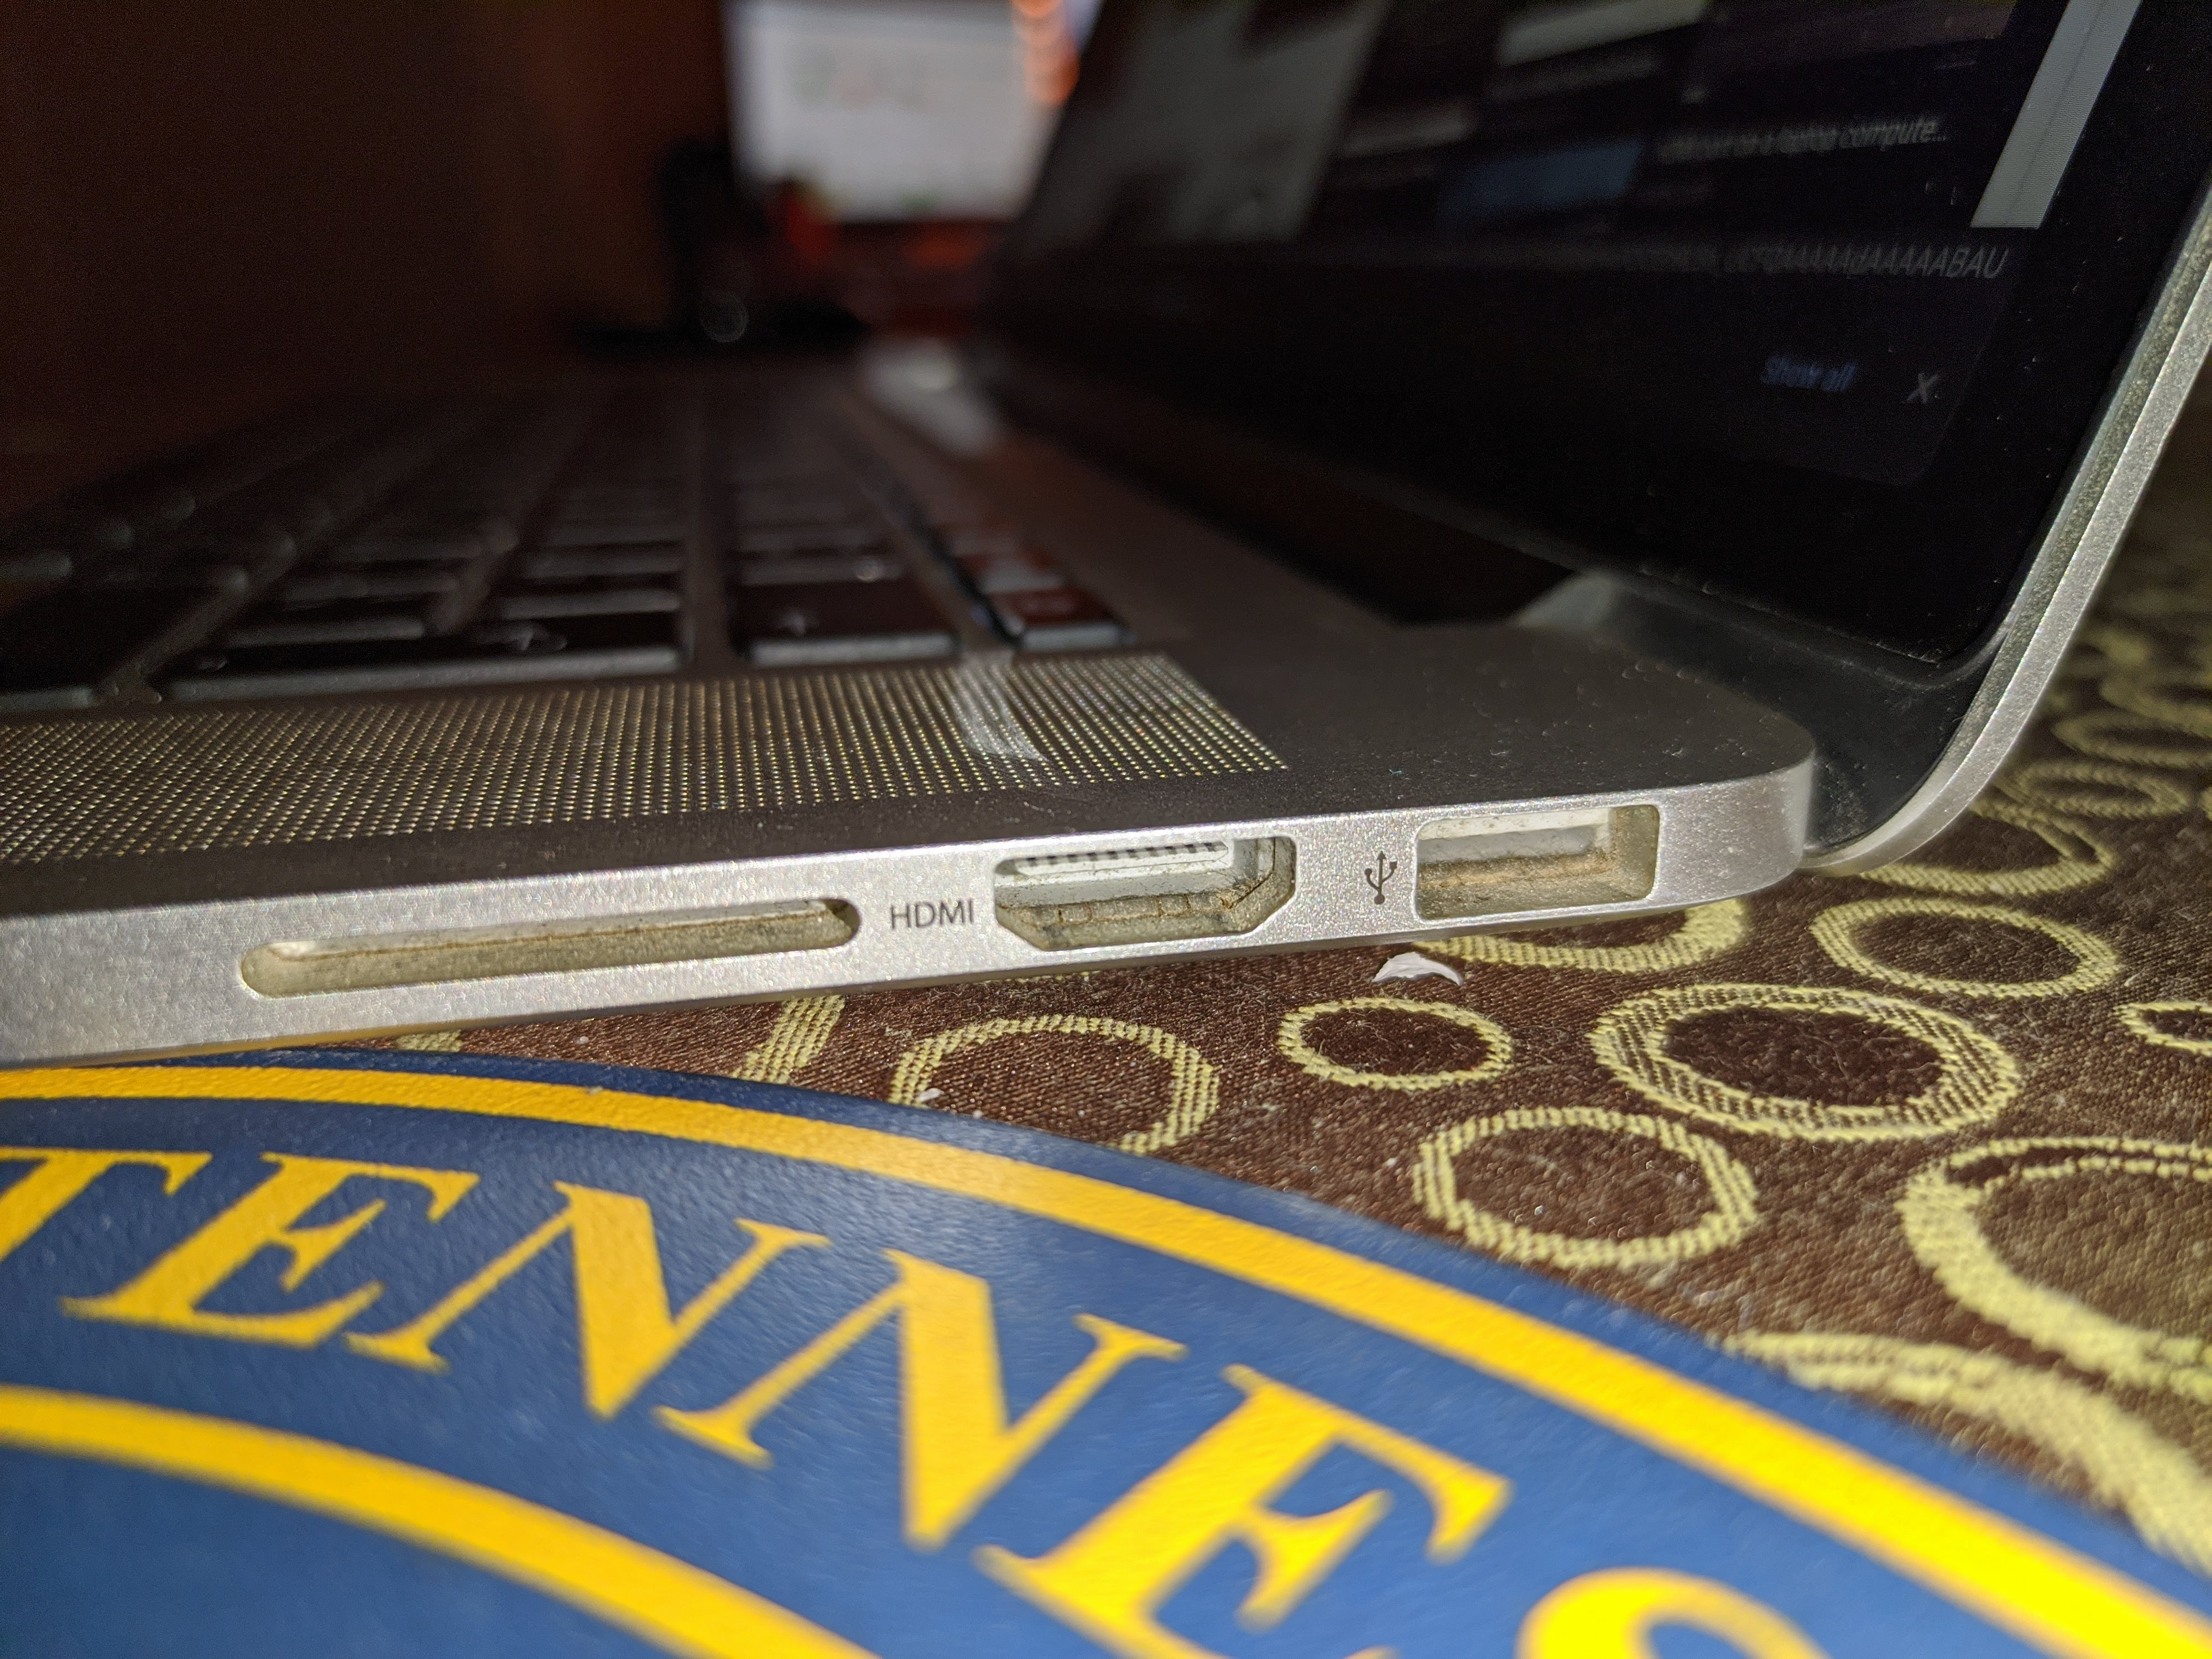hdmi_in: (986, 828, 1305, 955)
usbport_in: (1360, 800, 1670, 927)
